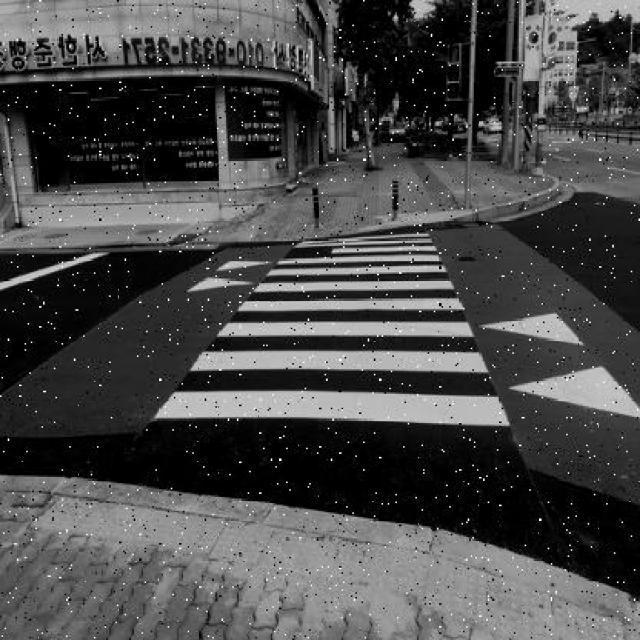Pedestrian crosswalk: (155, 223, 523, 446)
